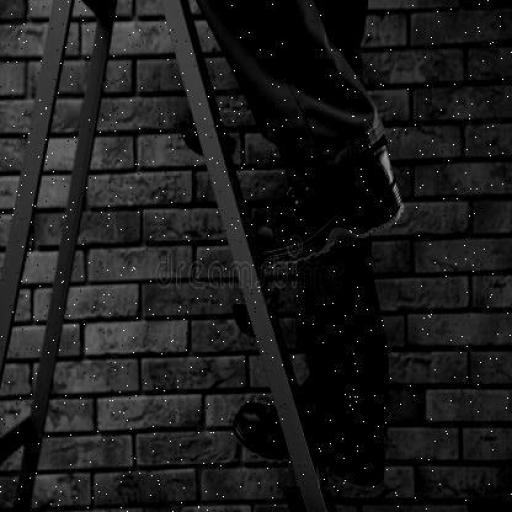safety_shoe: (247, 159, 404, 275), (239, 392, 386, 490)
